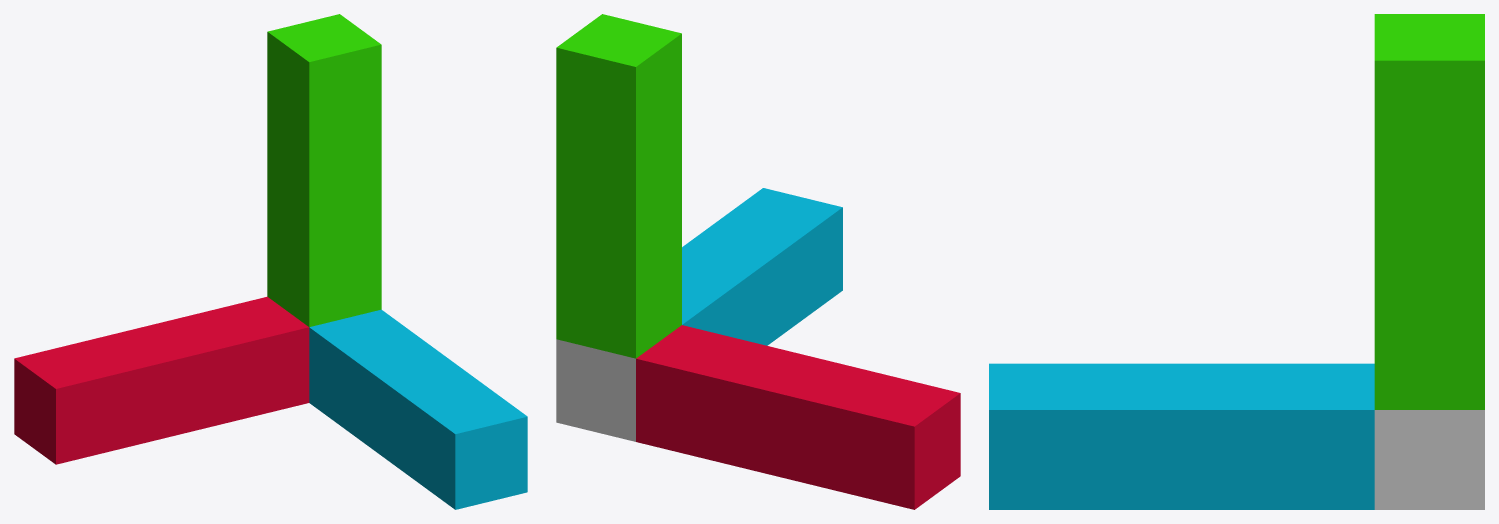
File: Axis.fbx
3 views of the same model, side by side, from view 1: azimuth 30°, elevation 25°; view 2: azimuth 150°, elevation 25°; view 3: azimuth 270°, elevation 25° (orthographic). The views are drawn at different scales.
Parts seen in each view (by area): view 1: 立方体; view 2: 立方体; view 3: 立方体.
Boxes of the visible parts, box(x1,y1,x2,y2) form: 立方体: box(14, 14, 527, 509); 立方体: box(556, 14, 960, 509); 立方体: box(989, 14, 1484, 509).
Size of the model in its own units: 900 by 900 by 900.
